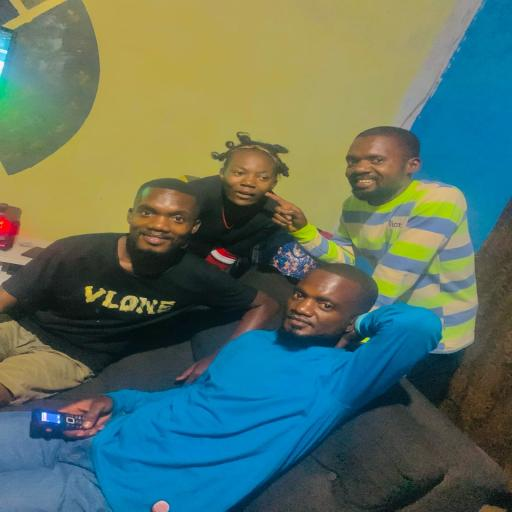MATTHIEU: (278, 259, 376, 352)
